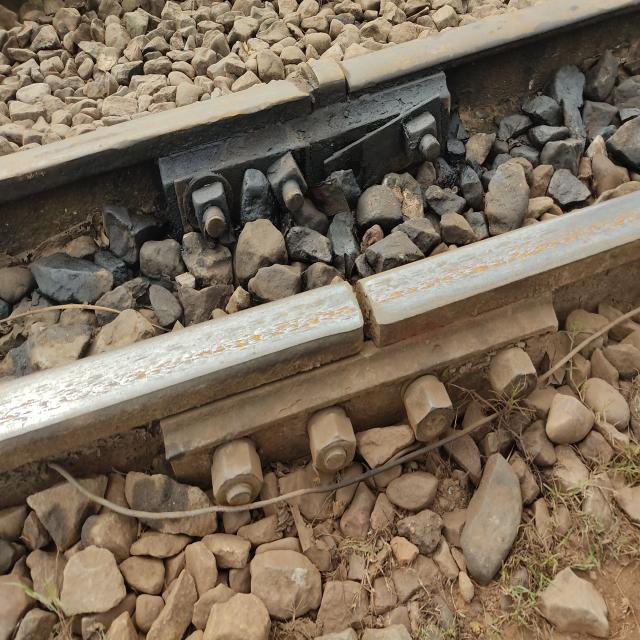Faults: (277, 56, 373, 106), (342, 269, 380, 352)
